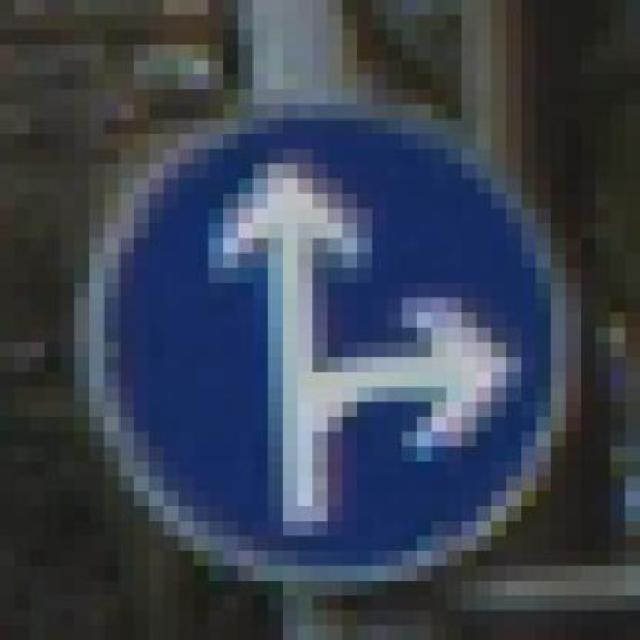Go Straight or Turn Right: (74, 74, 580, 580)
